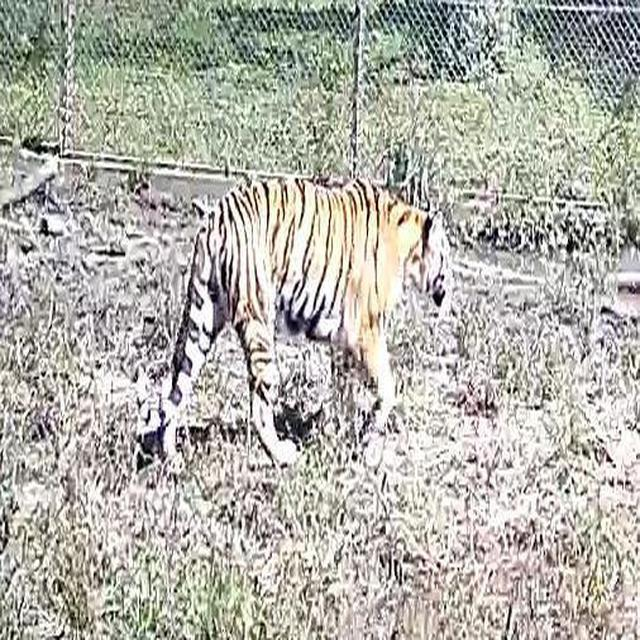tiger: (136, 173, 449, 472)
